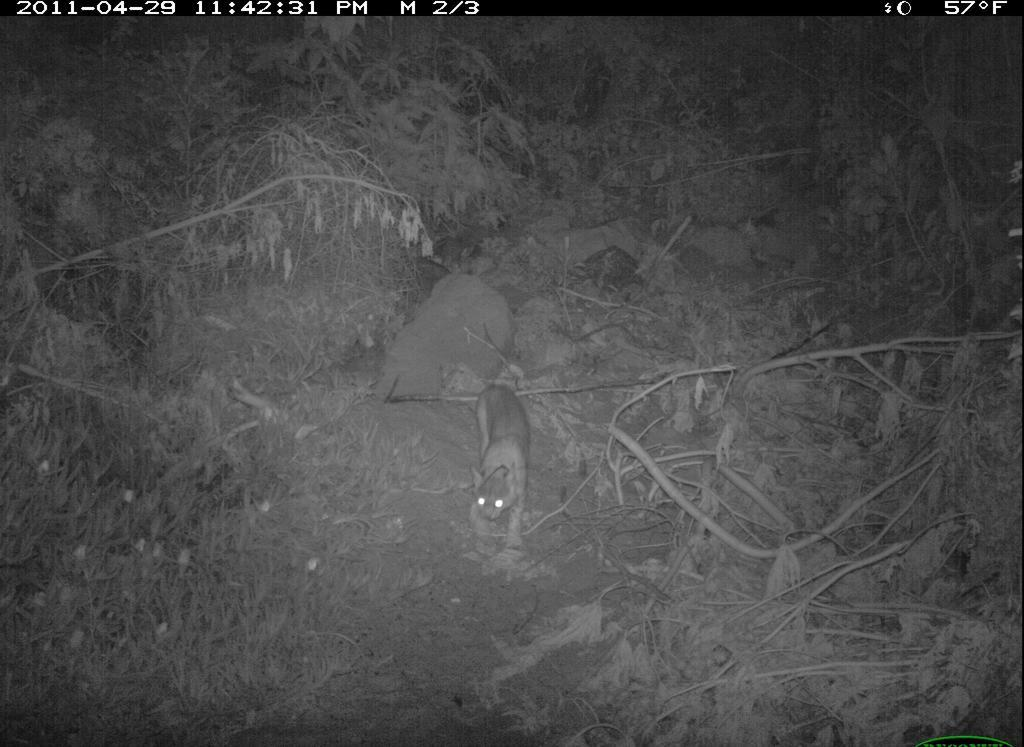bobcat: (461, 379, 543, 556)
